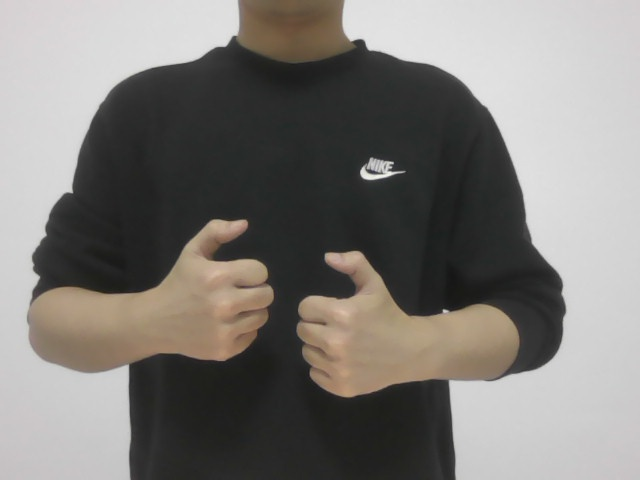marry/wife: (144, 221, 435, 408)
